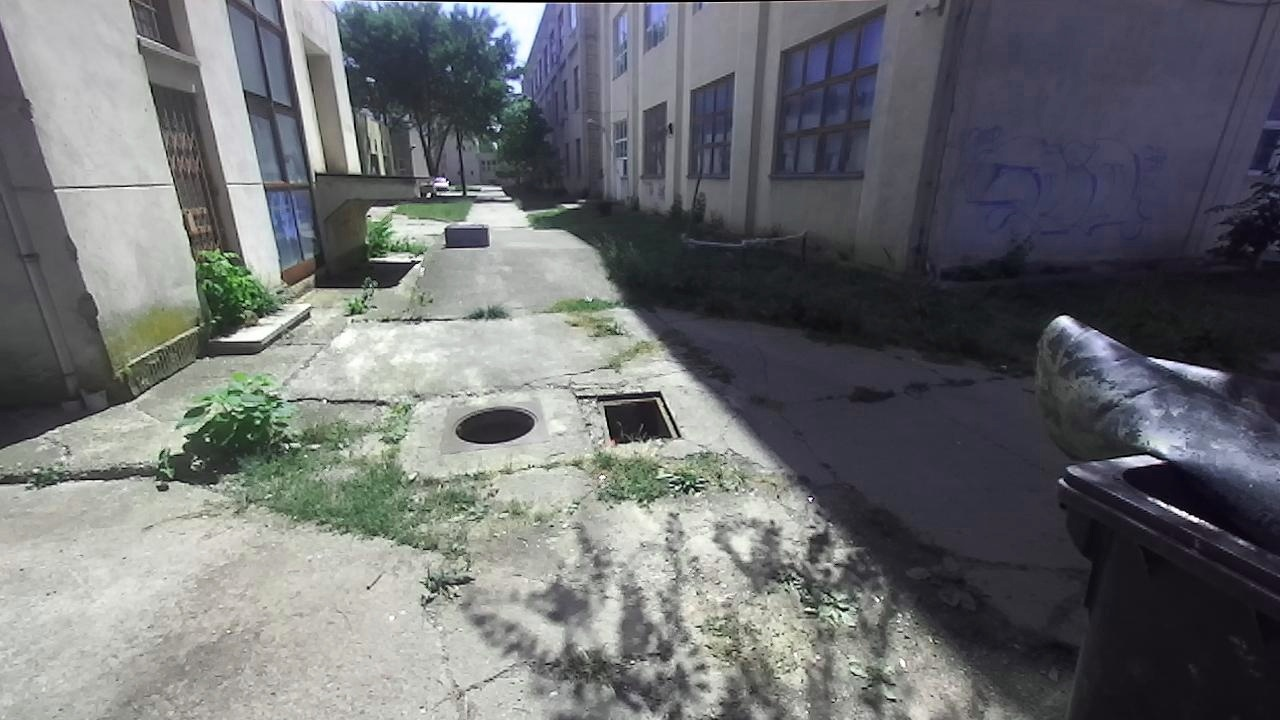drain: (594, 387, 686, 444), (447, 398, 545, 447)
